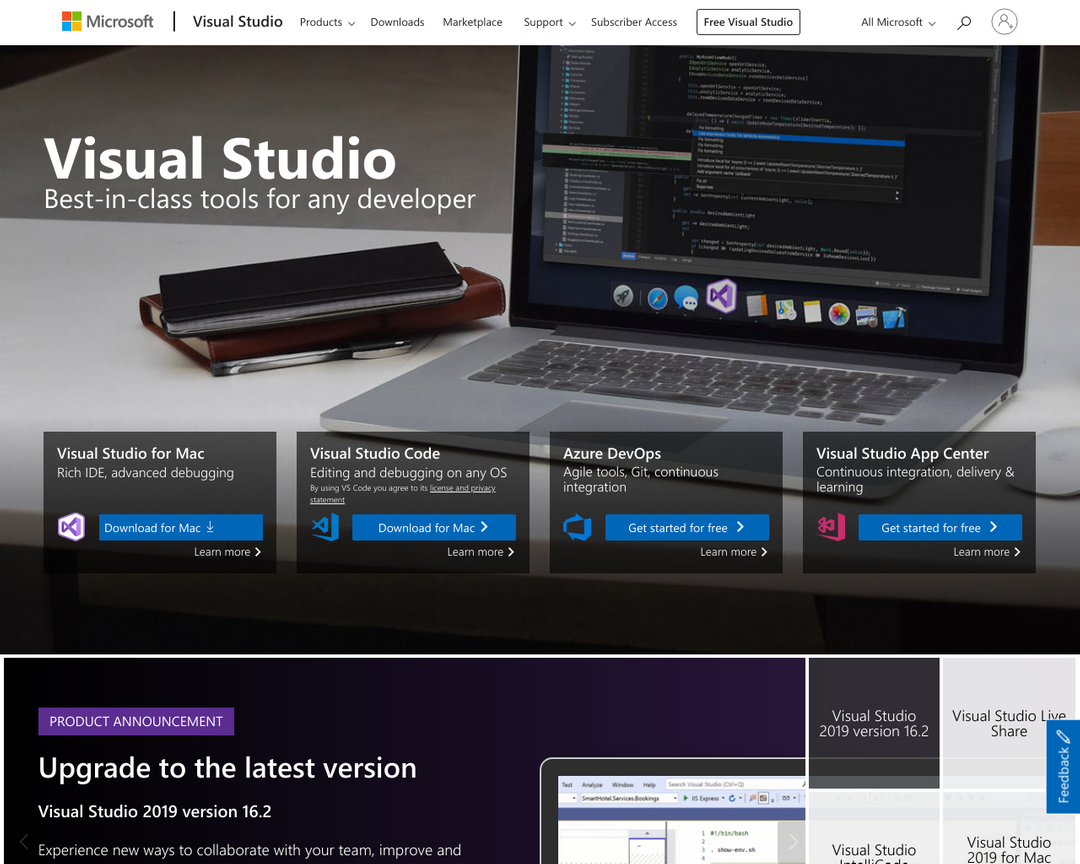Microsoft: (60, 7, 157, 34)
